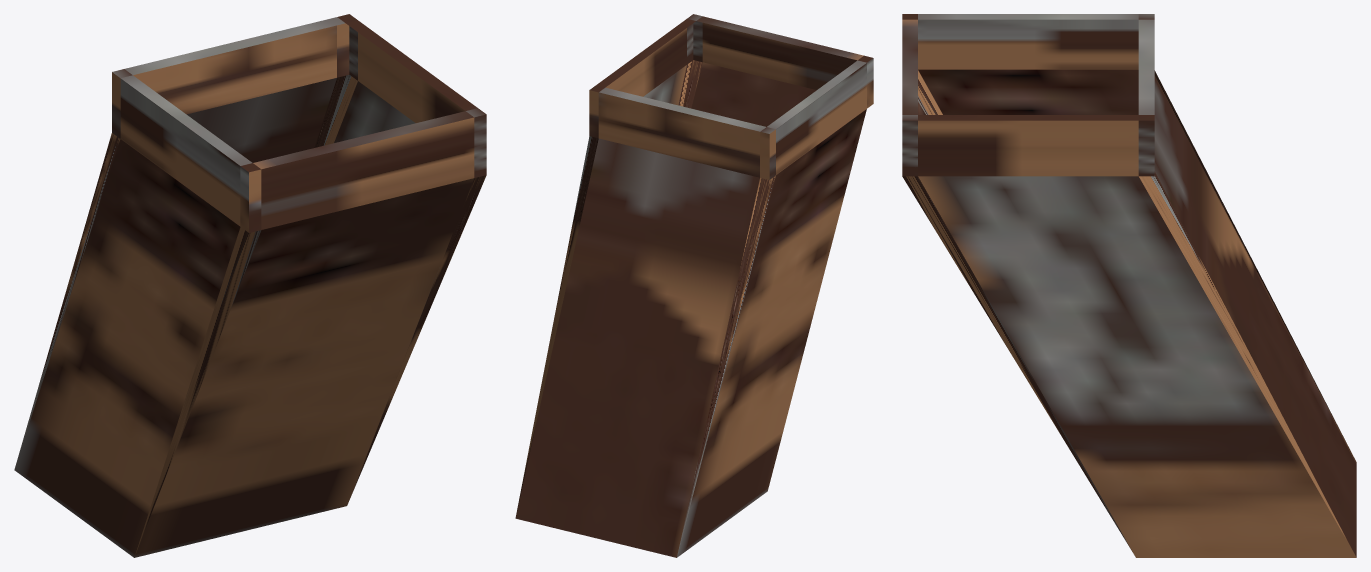
Rendered from TrampillaMain.obj.
3 renders of one model, left to right at view 1: azimuth 30°, elevation 25°; view 2: azimuth 150°, elevation 25°; view 3: azimuth 270°, elevation 25°, orthographic. The views are drawn at different scales.
Visible parts, largest first — view 1: TrampillaMain_Cube.265; view 2: TrampillaMain_Cube.265; view 3: TrampillaMain_Cube.265.
Part boxes in pixels (x1,y1,x2,y2): TrampillaMain_Cube.265: (14,14,486,557); TrampillaMain_Cube.265: (515,14,873,557); TrampillaMain_Cube.265: (902,14,1356,557).
Bounding box in the file's own units: 1.41 × 2.74 × 2.55.
1 material, 1 textured.
